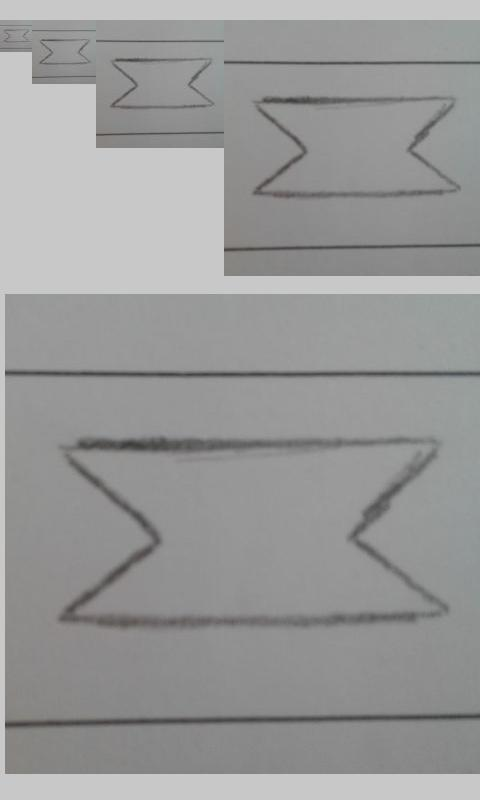edit_text: (58, 435, 450, 631), (251, 95, 463, 198), (109, 57, 214, 109), (39, 38, 91, 65), (3, 28, 29, 43)
